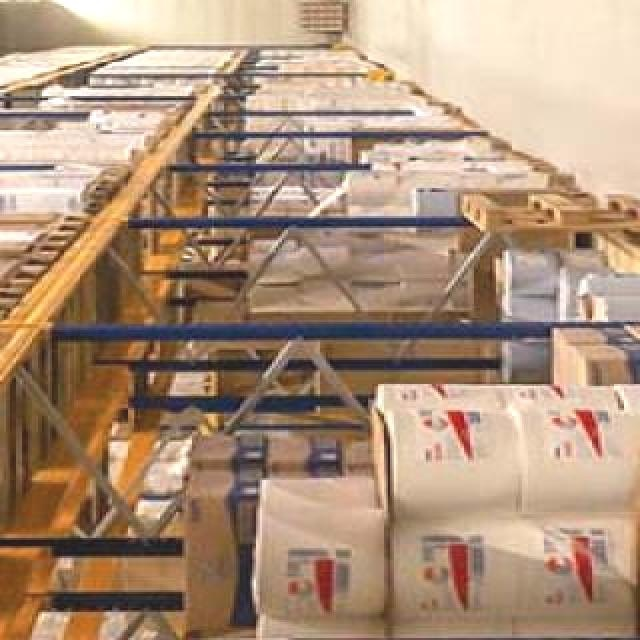fluorescent tube: (0, 0, 12, 6)
